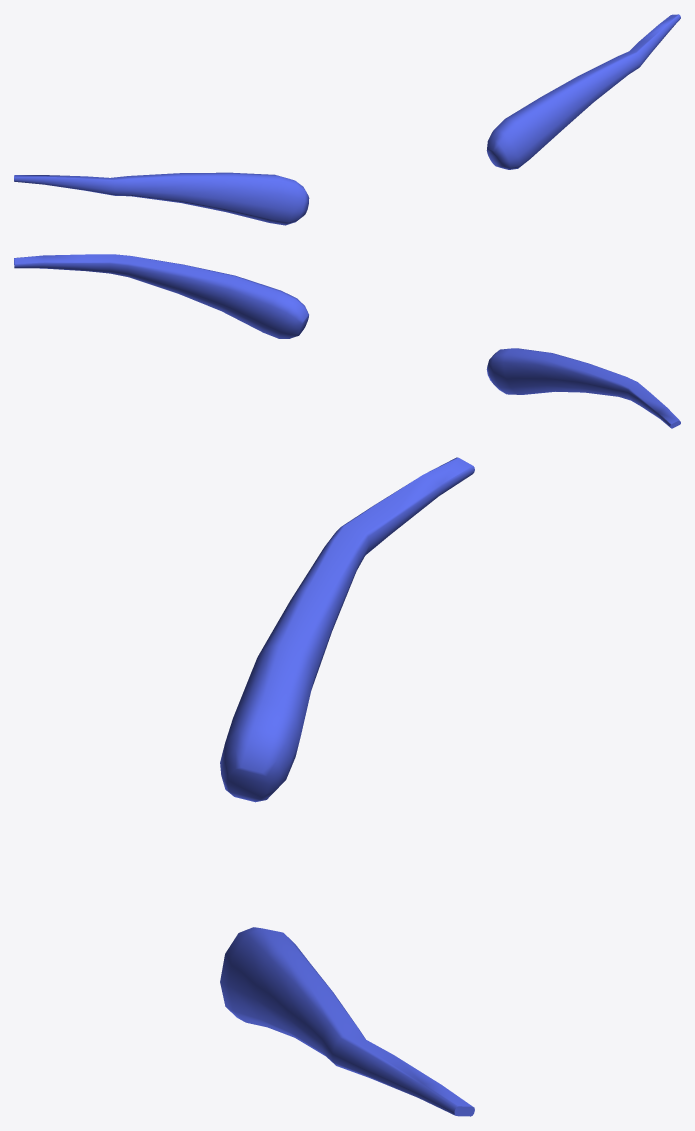
File: Eyebrows_25_03.fbx
3 renders of one model, top to bottom at view 1: azimuth 30°, elevation 25°; view 2: azimuth 150°, elevation 25°; view 3: azimuth 270°, elevation 25°, orthographic. The views are drawn at different scales.
Visible parts, largest first — view 1: Eyebrows_25_03; view 2: Eyebrows_25_03; view 3: Eyebrows_25_03.
Boxes of the visible parts, x1,y1,x2,y2 form: Eyebrows_25_03: [14, 14, 680, 225]; Eyebrows_25_03: [14, 254, 680, 428]; Eyebrows_25_03: [220, 457, 474, 1116].
Size of the model in its own units: 17.7 by 1.64 by 2.93.
